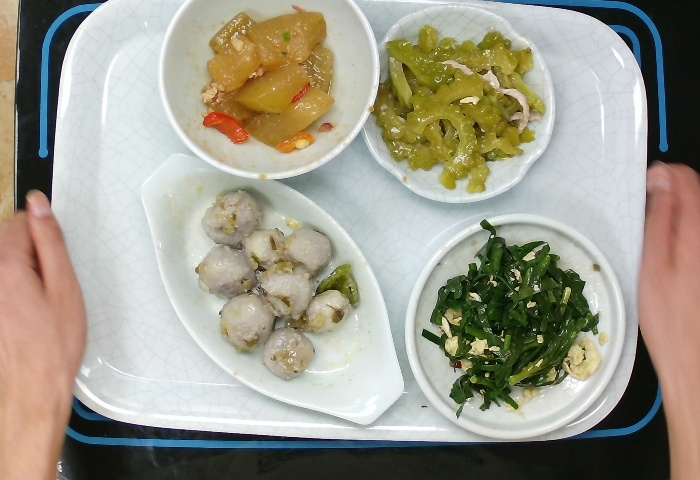JYsf-Ao_Yuan_Wan: (359, 3, 557, 205)
JYsf-Fan_Wan: (155, 1, 382, 181)
JYsf-Xiao_Yuan_Pan: (402, 210, 627, 440)
JYsf-Yu_Pan: (138, 151, 405, 427)
